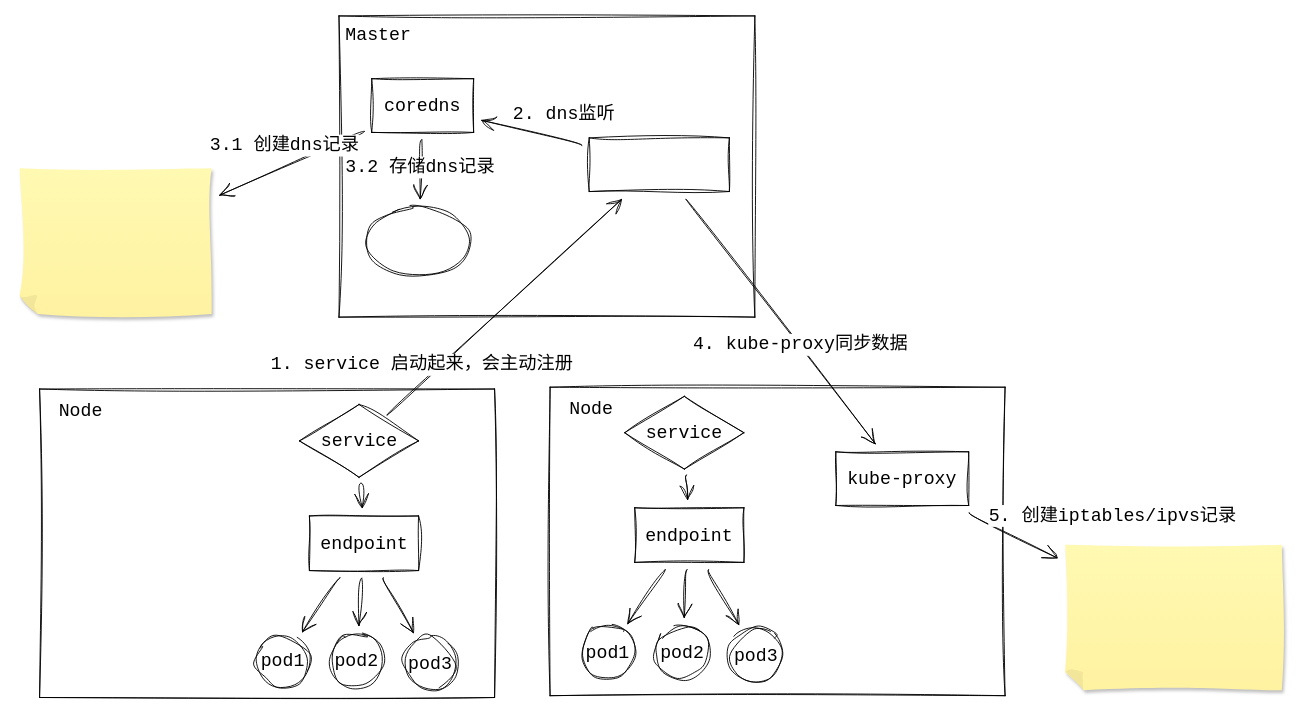
The diagram is 1302 pixels wide and 713 high, and some of its shapes have lost their labels. The centre of each missing label's shape, as x and y in pixels:
dns record service_name: ip service_name: ip: [116,242]
etcd: [418,240]
iptables clusterip+endpoint: [1174,618]
kube-apiserver: [658,164]
